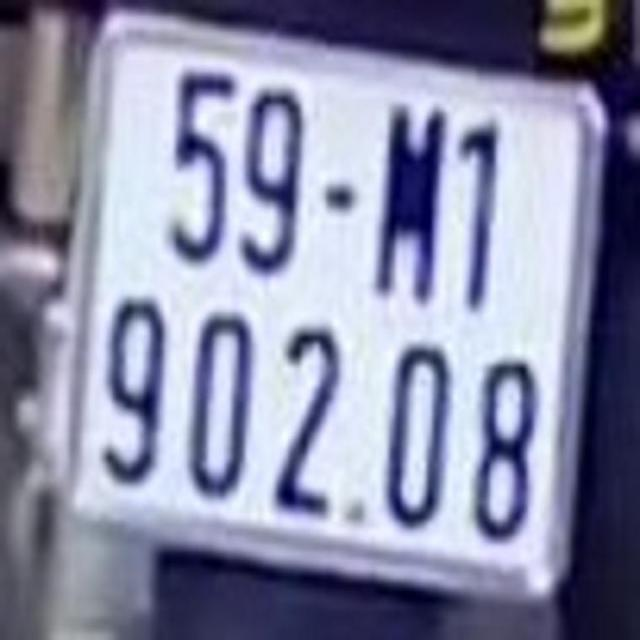0: (384, 334, 454, 534), (184, 304, 252, 500)
1: (456, 112, 502, 310)
2: (272, 318, 343, 520)
5: (170, 63, 237, 270)
8: (471, 352, 538, 543)
9: (242, 78, 304, 276), (104, 292, 164, 482)
M: (373, 94, 447, 300)
